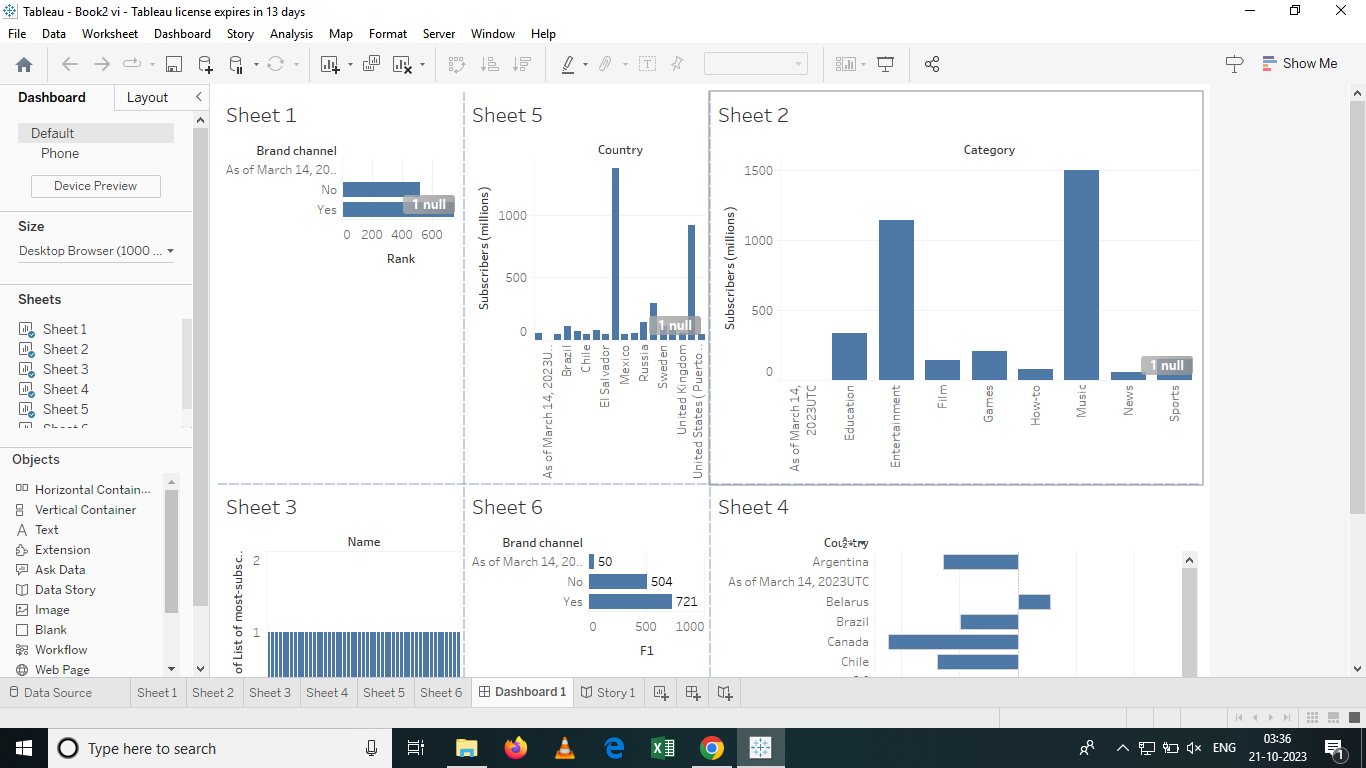

The dashboard page shown, as its layout file describes it:
{"tool":"tableau","page":{"name":"Dashboard 1","canvas":[1000,800],"ordinal":0},"visuals":[{"type":"worksheet","title":"Sheet 1","mark":"Automatic","rows":["Brand channel"],"cols":["Rank"],"box":[8,8,246,392]},{"type":"worksheet","title":"Sheet 5","mark":"Automatic","rows":["Subscribers (millions)"],"cols":["Country"],"box":[254,8,246,392]},{"type":"worksheet","title":"Sheet 2","mark":"Automatic","rows":["Subscribers (millions)"],"cols":["Category"],"box":[500,8,492,392]},{"type":"worksheet","title":"Sheet 3","mark":"Automatic","rows":["List of most-subscribed YouTube channels.csv_E2A2E9CEBE184BE"],"cols":["Name"],"box":[8,400,246,392]},{"type":"worksheet","title":"Sheet 6","mark":"Automatic","rows":["Brand channel"],"cols":["F1"],"box":[254,400,246,392]},{"type":"worksheet","title":"Sheet 4","mark":"Automatic","rows":["Country"],"box":[500,400,492,392]}]}

Visuals, with their boxes on the page's 1000x800 design canvas (x1, y1, x2, y2). These are canvas units, not pixel positions in the 1366x768 screenshot, which may show the page scaled, cropped or inside an application window:
"Sheet 1" worksheet: 8,8,254,400
"Sheet 5" worksheet: 254,8,500,400
"Sheet 2" worksheet: 500,8,992,400
"Sheet 3" worksheet: 8,400,254,792
"Sheet 6" worksheet: 254,400,500,792
"Sheet 4" worksheet: 500,400,992,792
